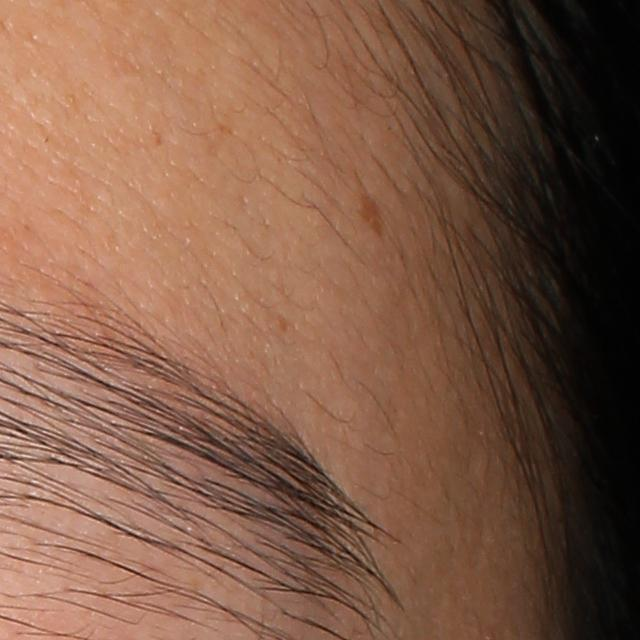melasma: (356, 176, 387, 247)
